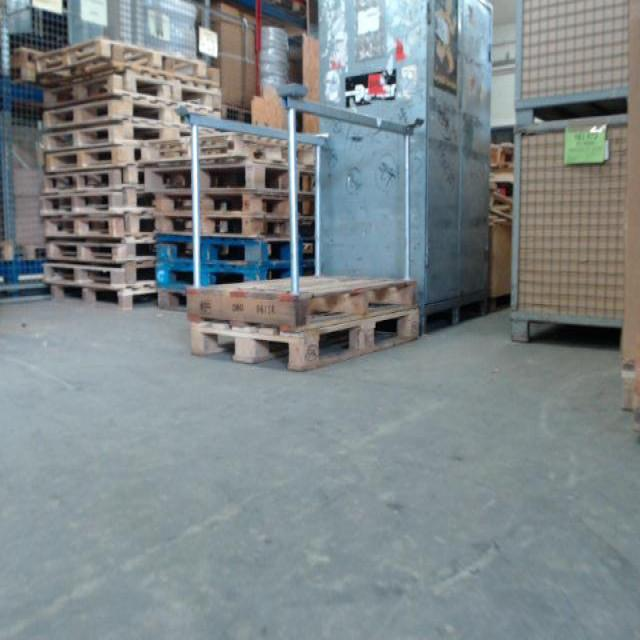pallet: (186, 273, 420, 335), (190, 304, 409, 368), (34, 38, 206, 75), (156, 255, 316, 284), (152, 138, 316, 165), (45, 77, 215, 103), (154, 228, 316, 255), (159, 188, 316, 213), (159, 165, 316, 188), (45, 103, 212, 123), (40, 231, 154, 256), (39, 186, 157, 209), (40, 209, 154, 232), (42, 125, 196, 142), (46, 262, 152, 285), (154, 213, 316, 228), (40, 144, 146, 165), (50, 289, 152, 306), (43, 170, 146, 185), (156, 284, 201, 307), (222, 105, 253, 123)
stillage: (512, 125, 630, 345), (516, 5, 633, 120)
